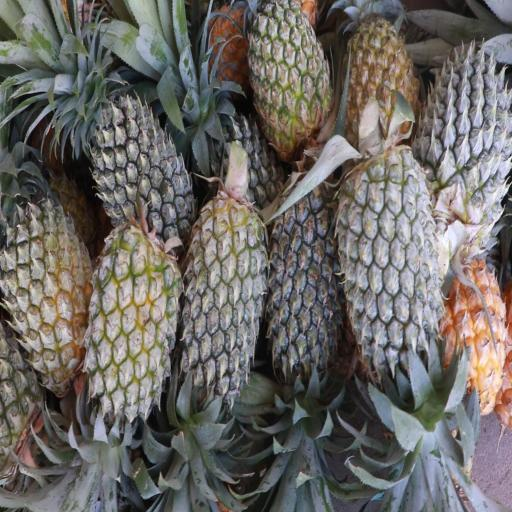------------------------------: (5, 194, 91, 390), (93, 224, 177, 422), (251, 0, 331, 151), (346, 6, 420, 138)
Pineapple - v8 v1: (437, 255, 512, 412)
